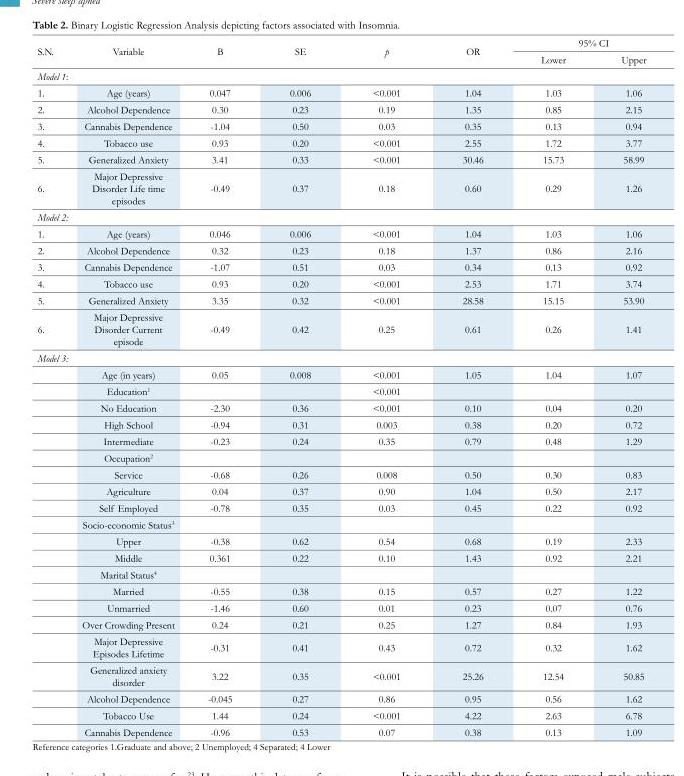table: (36, 36, 645, 737)
table column: (67, 36, 190, 737), (341, 36, 430, 737), (260, 36, 341, 737), (430, 36, 511, 737), (511, 36, 592, 737), (190, 36, 260, 737), (592, 36, 645, 737), (36, 36, 67, 737)
table column header: (36, 36, 645, 67)
table projected row header: (36, 67, 645, 84), (36, 208, 645, 225), (36, 349, 645, 366)
table row: (36, 167, 645, 208), (36, 308, 645, 349), (36, 632, 645, 661), (36, 661, 645, 690), (36, 50, 645, 67), (36, 67, 645, 84), (36, 100, 645, 117), (36, 117, 645, 134), (36, 150, 645, 167), (36, 208, 645, 225), (36, 241, 645, 258), (36, 258, 645, 275), (36, 291, 645, 308), (36, 349, 645, 366), (36, 382, 645, 399), (36, 399, 645, 416), (36, 432, 645, 449), (36, 449, 645, 466), (36, 482, 645, 499), (36, 499, 645, 516), (36, 532, 645, 549), (36, 549, 645, 566), (36, 582, 645, 599), (36, 599, 645, 616), (36, 706, 645, 723), (36, 84, 645, 100), (36, 134, 645, 150), (36, 225, 645, 241), (36, 275, 645, 291), (36, 366, 645, 382), (36, 416, 645, 432), (36, 466, 645, 482), (36, 516, 645, 532), (36, 566, 645, 582), (36, 616, 645, 632), (36, 690, 645, 706), (36, 36, 645, 50), (36, 723, 645, 737)
table spanning cell: (67, 36, 190, 67), (341, 36, 430, 67), (260, 36, 341, 67), (430, 36, 511, 67), (190, 36, 260, 67), (511, 36, 645, 50), (36, 36, 67, 67)
